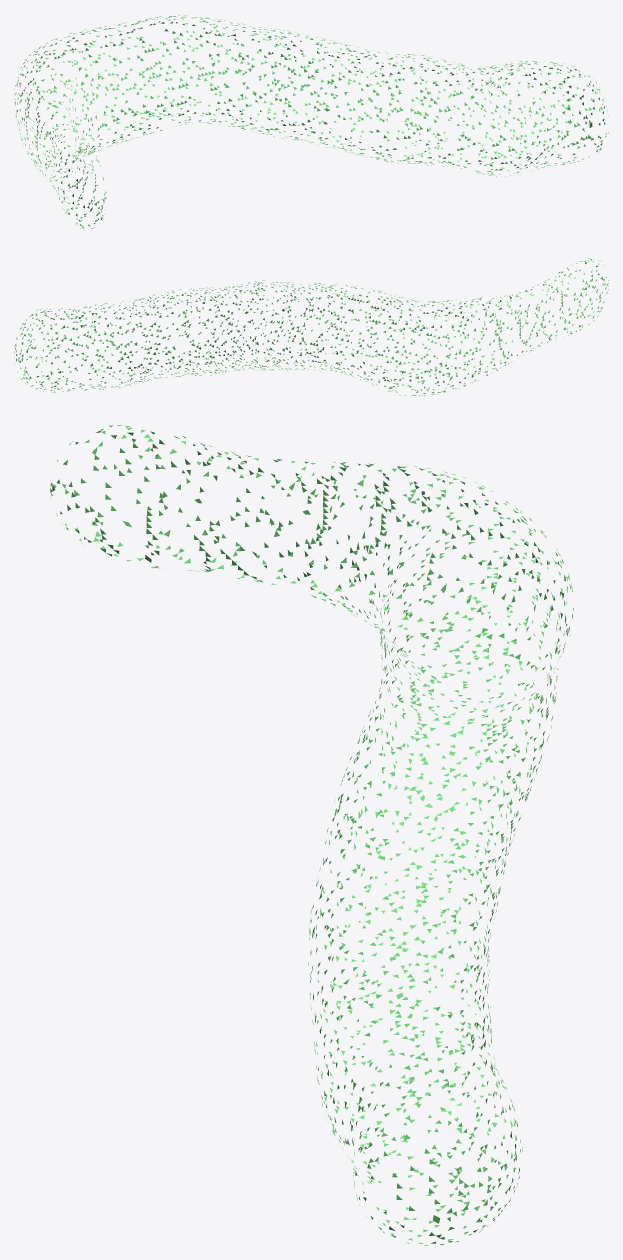
The model's file is morph_018.glb.
The picture shows the model from 3 angles, top to bottom: view 1: azimuth 30°, elevation 25°; view 2: azimuth 150°, elevation 25°; view 3: azimuth 270°, elevation 25°; orthographic projection. The views are drawn at different scales.
Bounding box in the file's own units: 130 × 45.71 × 59.57.
